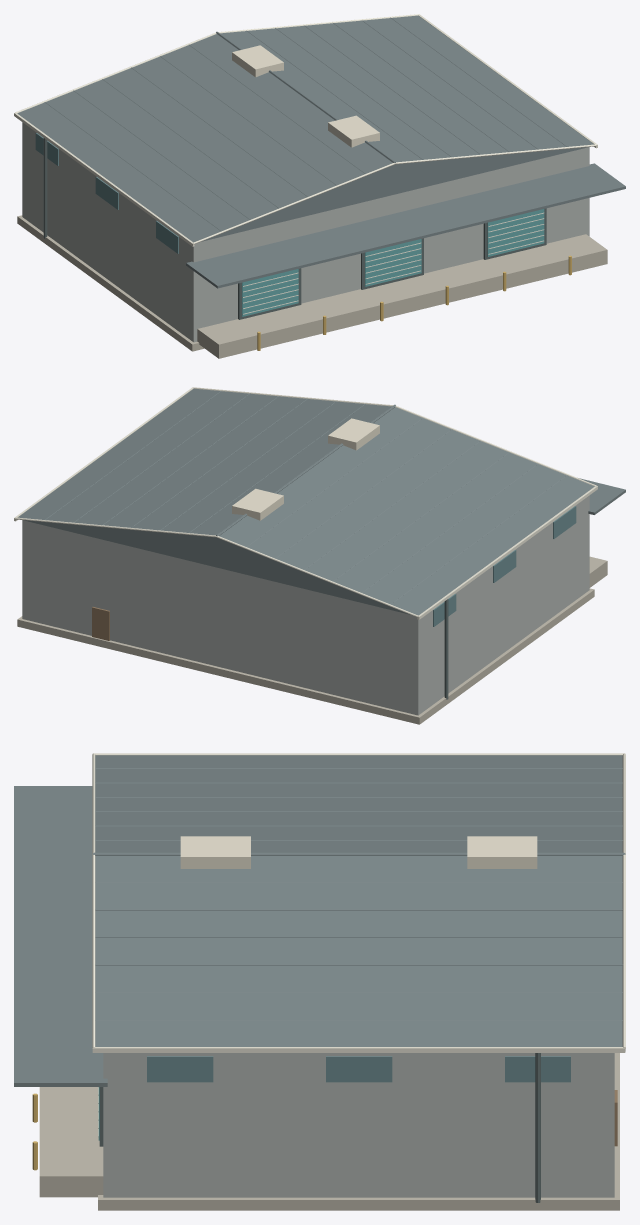
3 renders of one model, top to bottom at view 1: azimuth 30°, elevation 25°; view 2: azimuth 150°, elevation 25°; view 3: azimuth 270°, elevation 25°, orthographic. The views are drawn at different scales.
Size of the model in its own units: 33 by 11.28 by 28.73.
